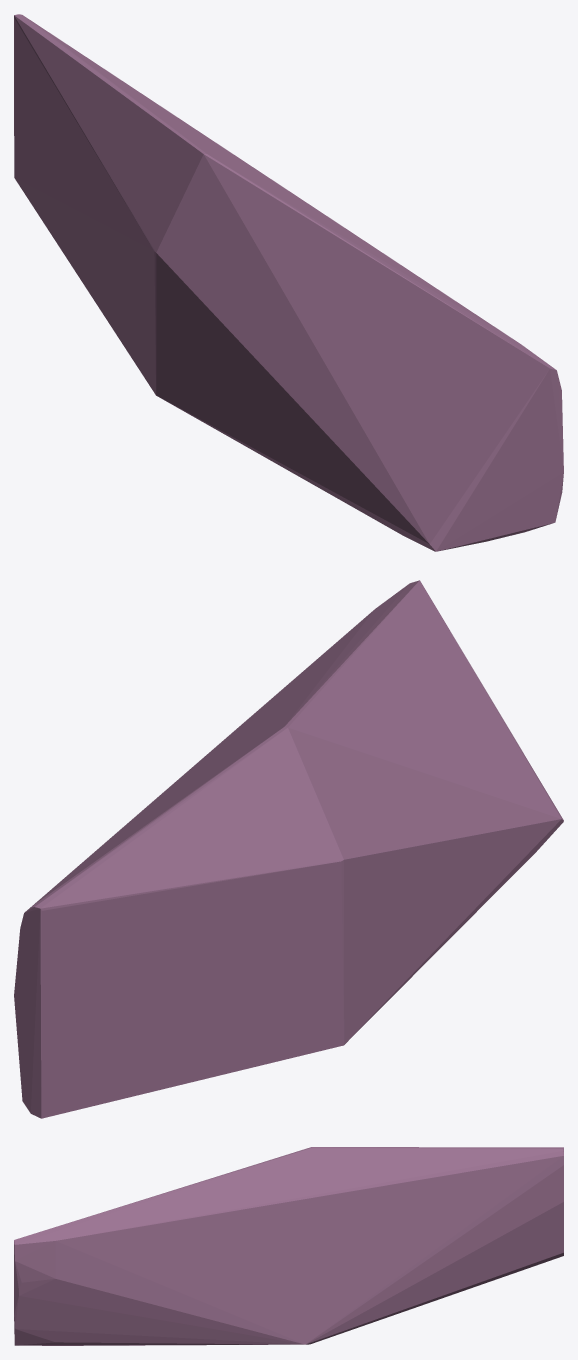
Rendered from refrigerator_d01.glb.
3 views of the same model, one above another, from view 1: azimuth 30°, elevation 25°; view 2: azimuth 150°, elevation 25°; view 3: azimuth 270°, elevation 25° (orthographic). The views are drawn at different scales.
Visible parts, largest first — view 1: geometry_0; view 2: geometry_0; view 3: geometry_0.
Part boxes in pixels (<box>): geometry_0: <box>14,14,563,551</box>; geometry_0: <box>14,580,563,1118</box>; geometry_0: <box>14,1147,563,1345</box>.
Size of the model in its own units: 0.1232 by 0.1567 by 0.48.
